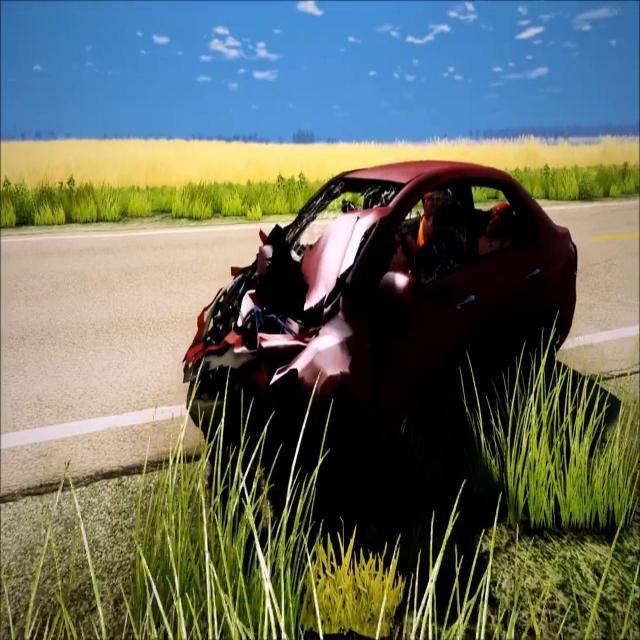accident: (182, 158, 582, 457)
